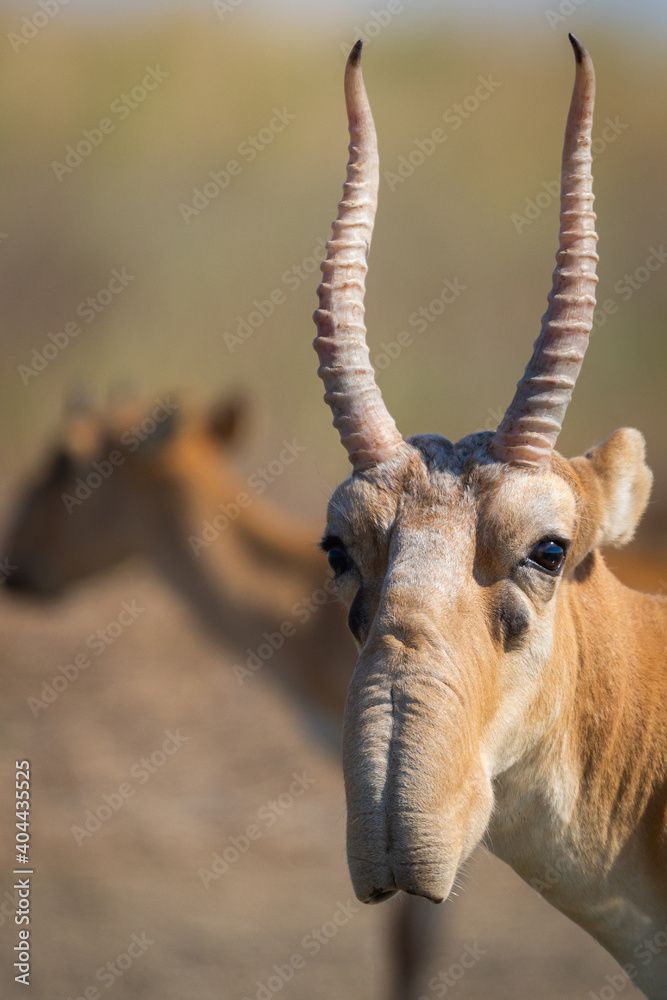saiga: (314, 34, 667, 1000)
